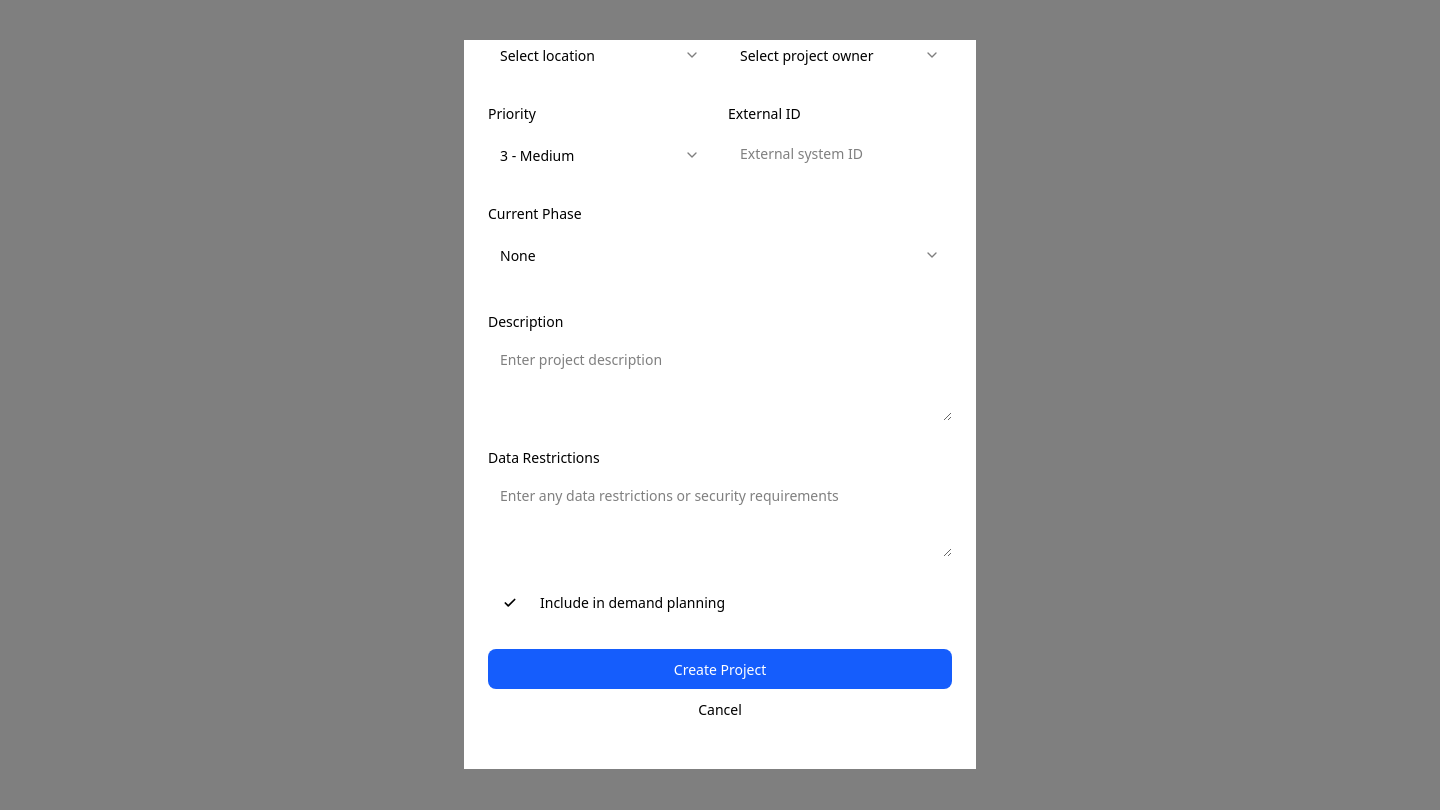
Test: ProjectModal › Form Validation › shows error when submitting without location
This screenshot has width=1440, height=810.
(page scrolled)
Click the button "Create Project". click: (720, 670)
box: [488, 650, 952, 690]
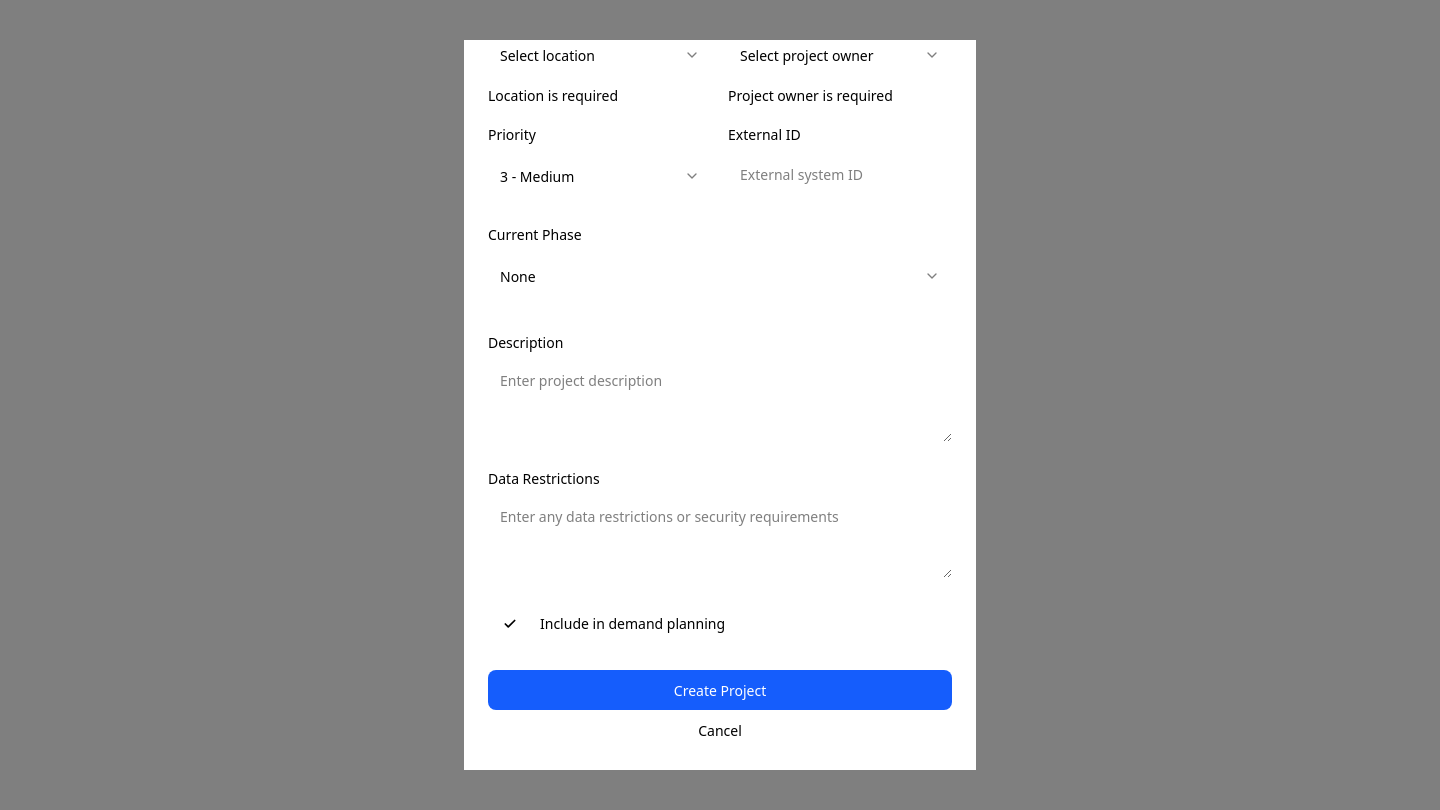
Expected: the text "Location is required" is shown, [488, 86, 618, 106]
